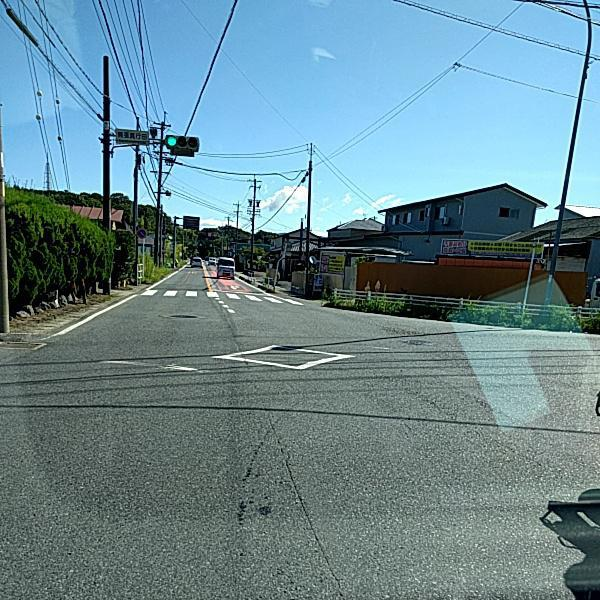D50: (400, 336, 437, 346)
